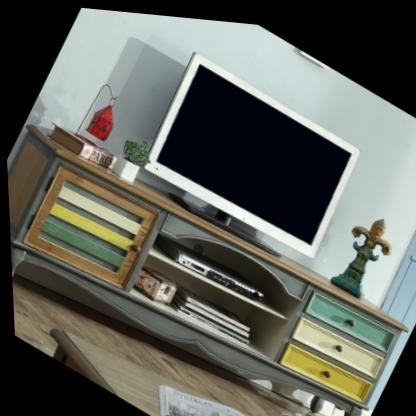TV stand: (3, 96, 410, 416)
